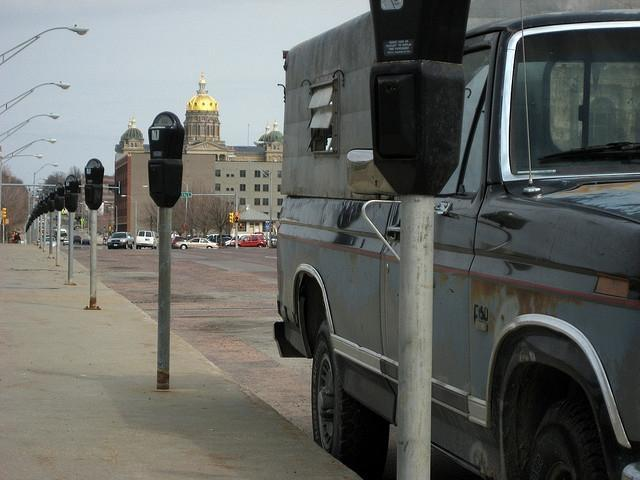car: (172, 237, 220, 249), (106, 232, 135, 250), (135, 229, 158, 249), (230, 235, 266, 247), (272, 234, 278, 248), (73, 235, 82, 244)
truck: (270, 0, 640, 480), (108, 232, 134, 250)
